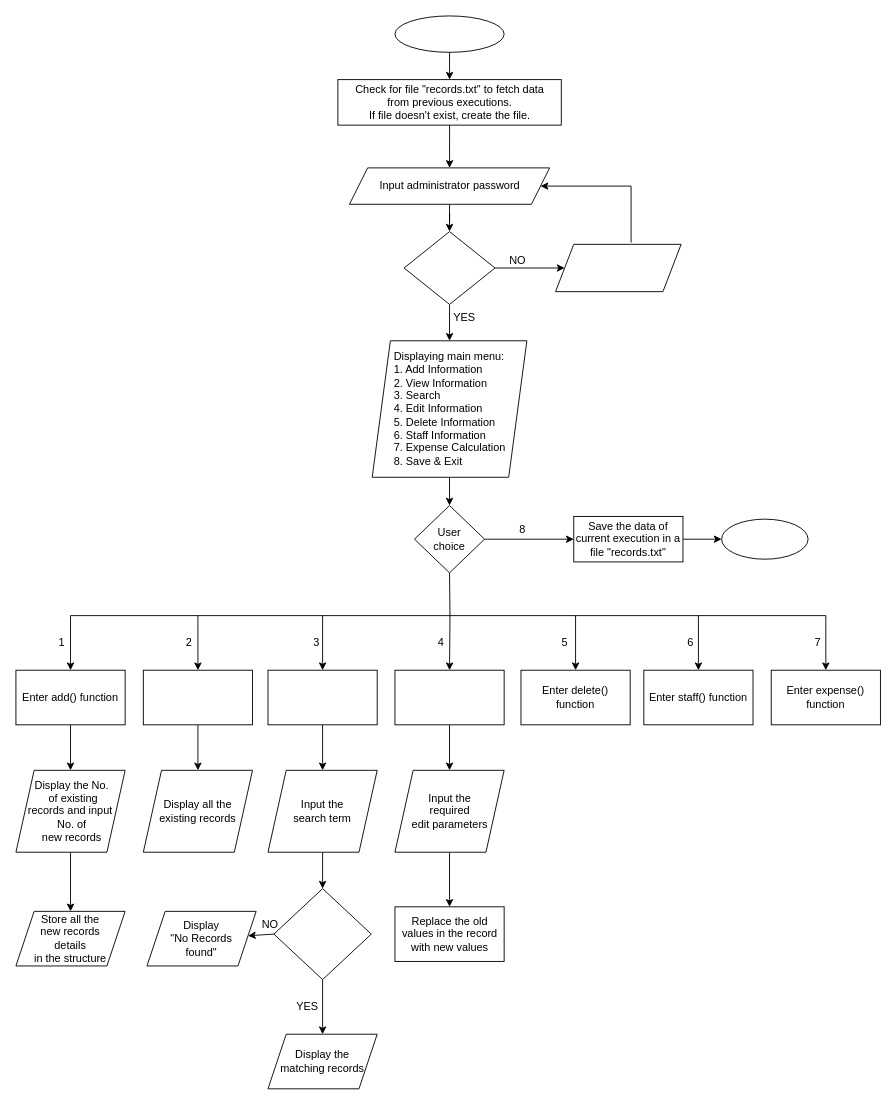
Image size: 896x1105. Some labels were removed from this diagram. Here are the shapes that lost their labels. From the top down, the centre of each, then its label:
At [449,33]: "START".
At [449,267]: "Password is correct".
At [618,267]: "Display that it is Wrong Password".
At [764,538]: "END".
At [197,697]: "Enter view() function".
At [322,697]: "Enter search() function".
At [449,697]: "Enter edit() function".
At [322,934]: "Records matching the search term found".
